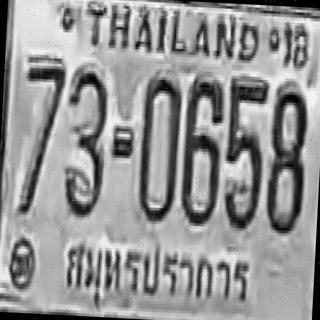N00: (136, 73, 182, 221)
N03: (61, 64, 109, 216)
N05: (221, 76, 268, 230)
N06: (179, 74, 224, 224)
N07: (16, 53, 66, 215)
N08: (264, 79, 308, 232)
P57: (58, 234, 254, 320)
